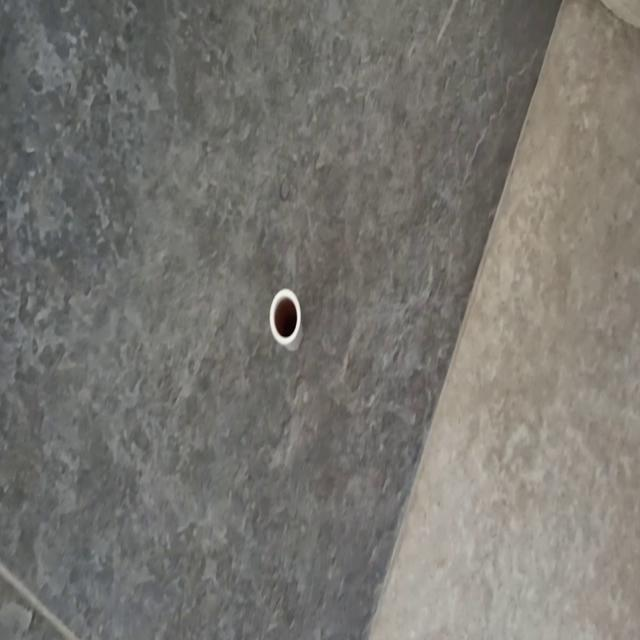Cube: (268, 286, 302, 351)
